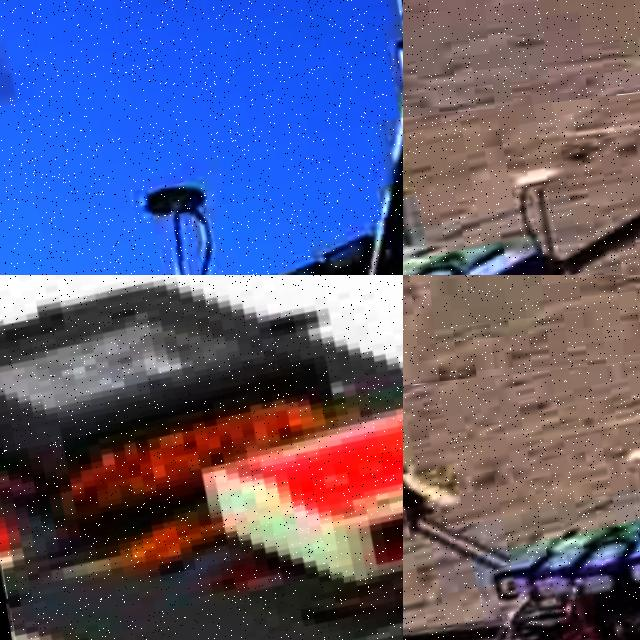drone: (0, 275, 403, 640), (0, 0, 403, 275), (403, 323, 640, 640), (403, 79, 640, 275)
